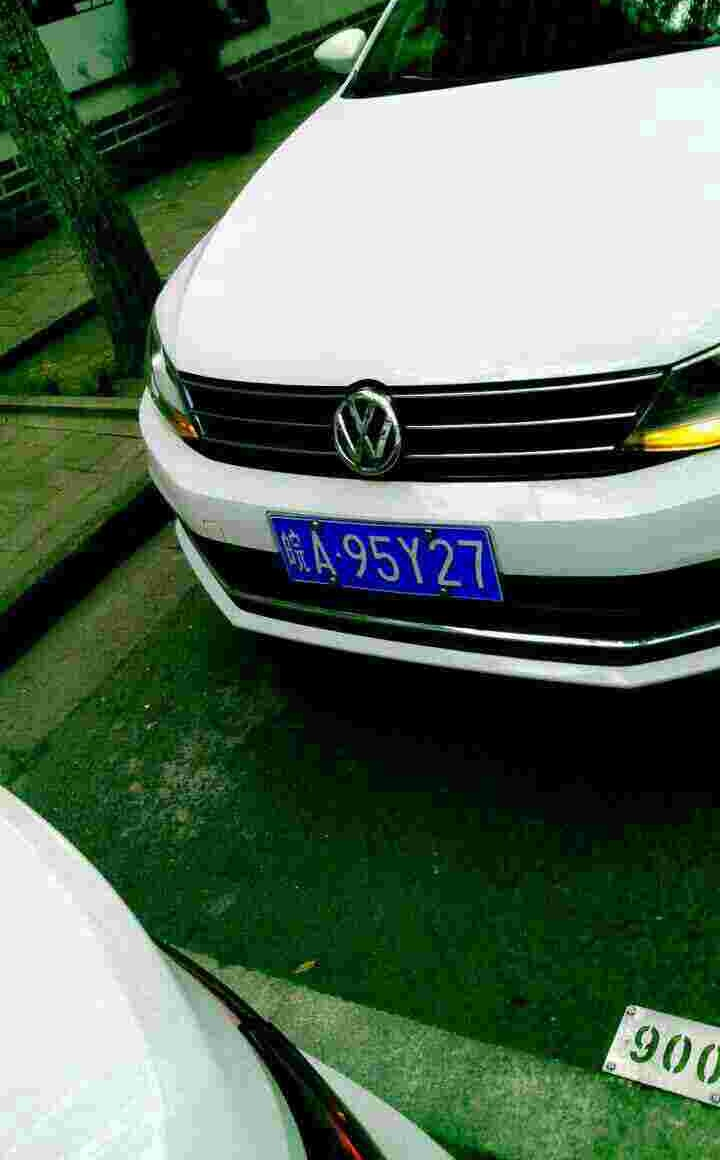plate: (264, 511, 507, 606)
